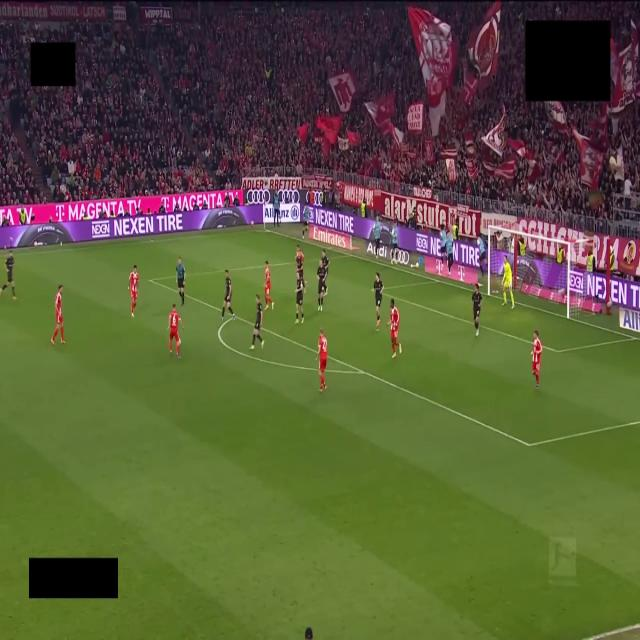player: (51, 285, 65, 344), (0, 251, 16, 300), (169, 304, 183, 359), (388, 299, 401, 358), (250, 295, 263, 350), (316, 329, 327, 392), (531, 330, 542, 388), (502, 256, 514, 309), (222, 271, 235, 319), (373, 272, 383, 327), (472, 284, 482, 336), (129, 265, 138, 317), (295, 272, 304, 323), (317, 260, 326, 311), (296, 246, 305, 292), (265, 261, 273, 310), (321, 250, 329, 295)
referee: (176, 257, 185, 305)
